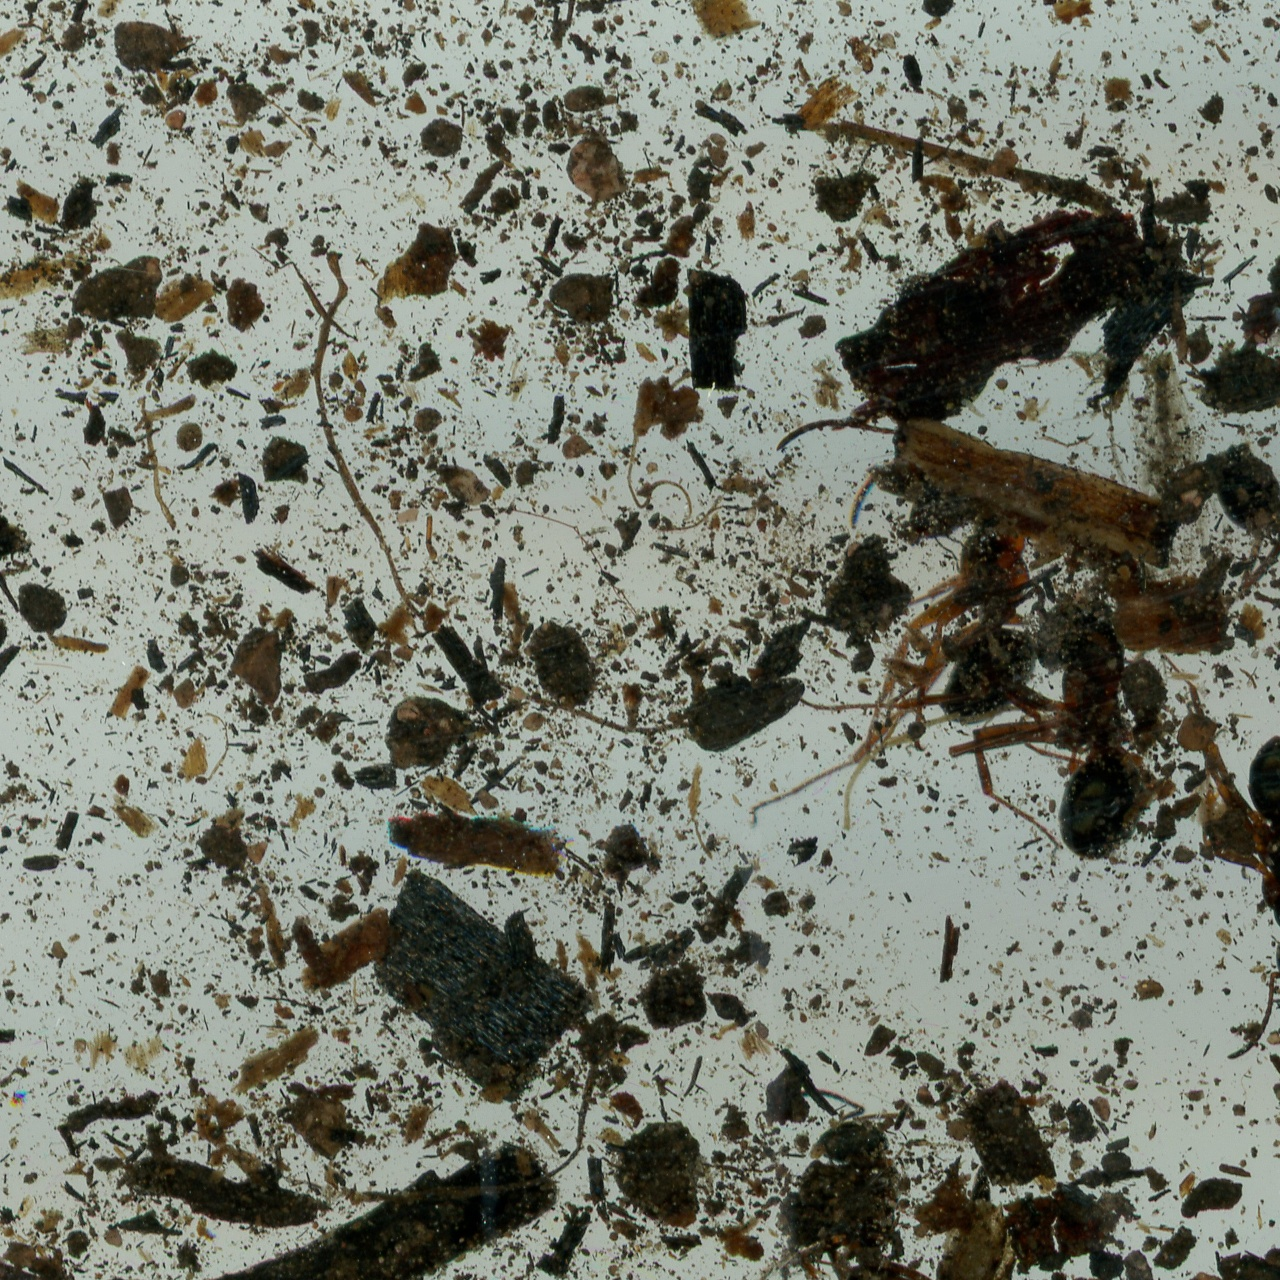arthropod: (775, 1087, 948, 1280), (0, 1227, 46, 1280)
